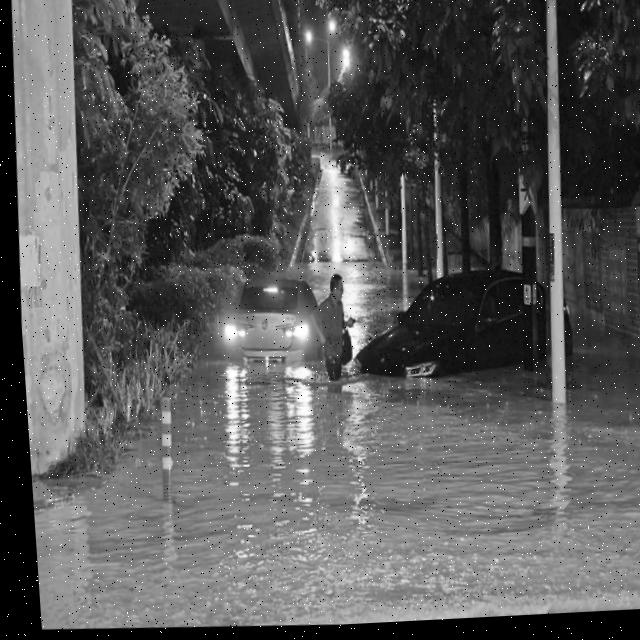civilian: (308, 261, 367, 395)
